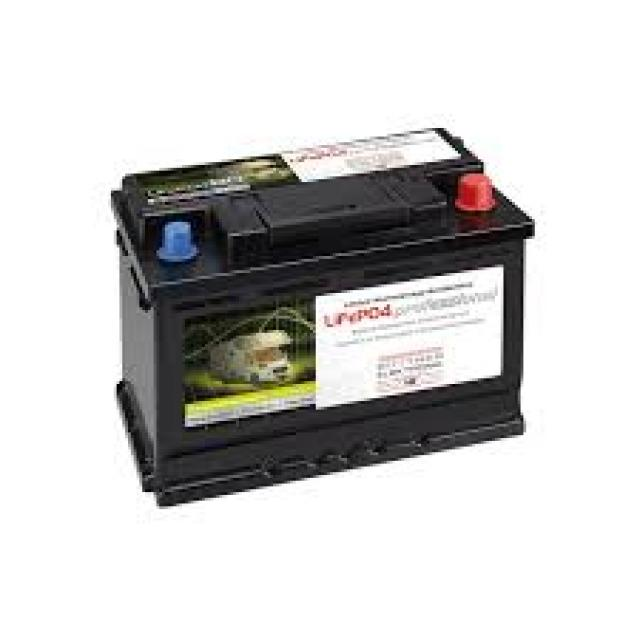non-organic waste: (117, 120, 526, 511)
